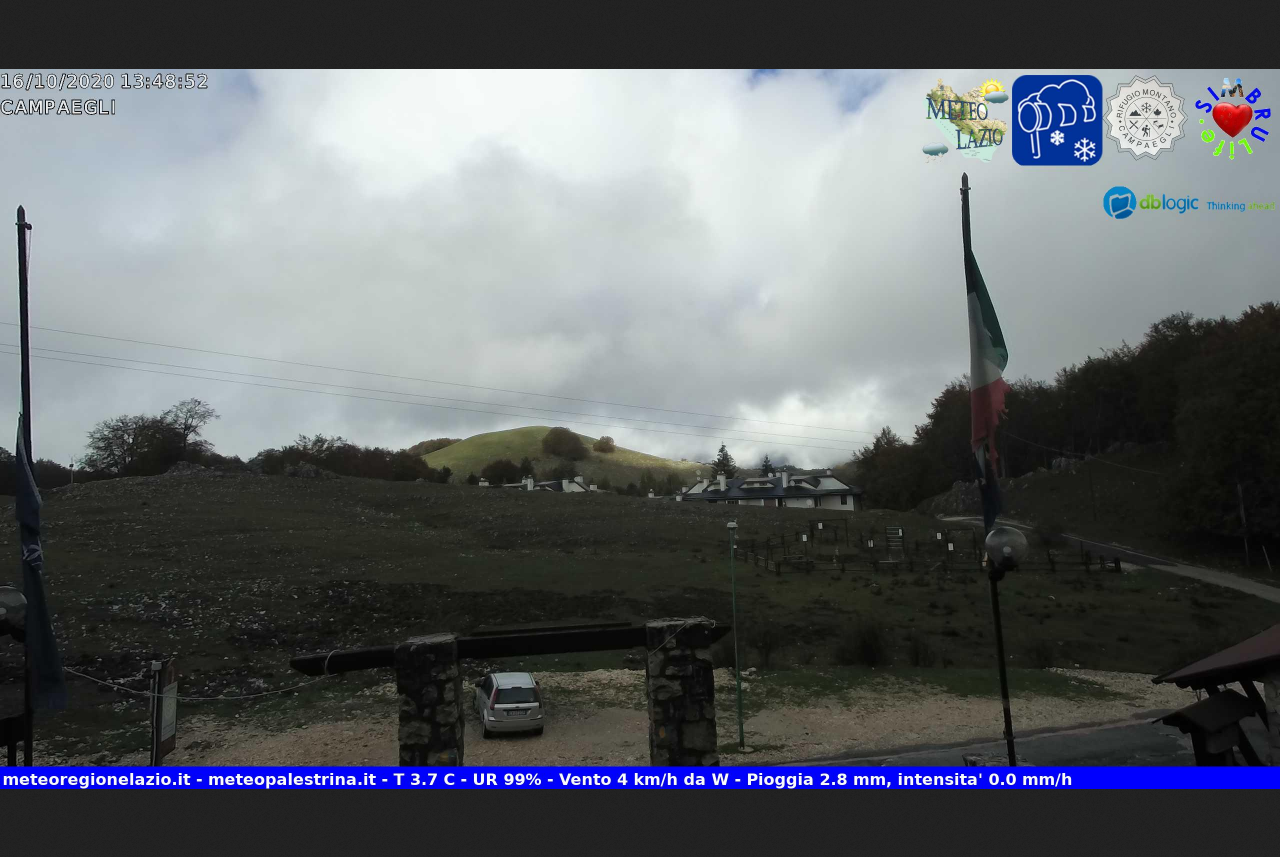no: (11, 413, 72, 716), (950, 194, 1013, 468)
